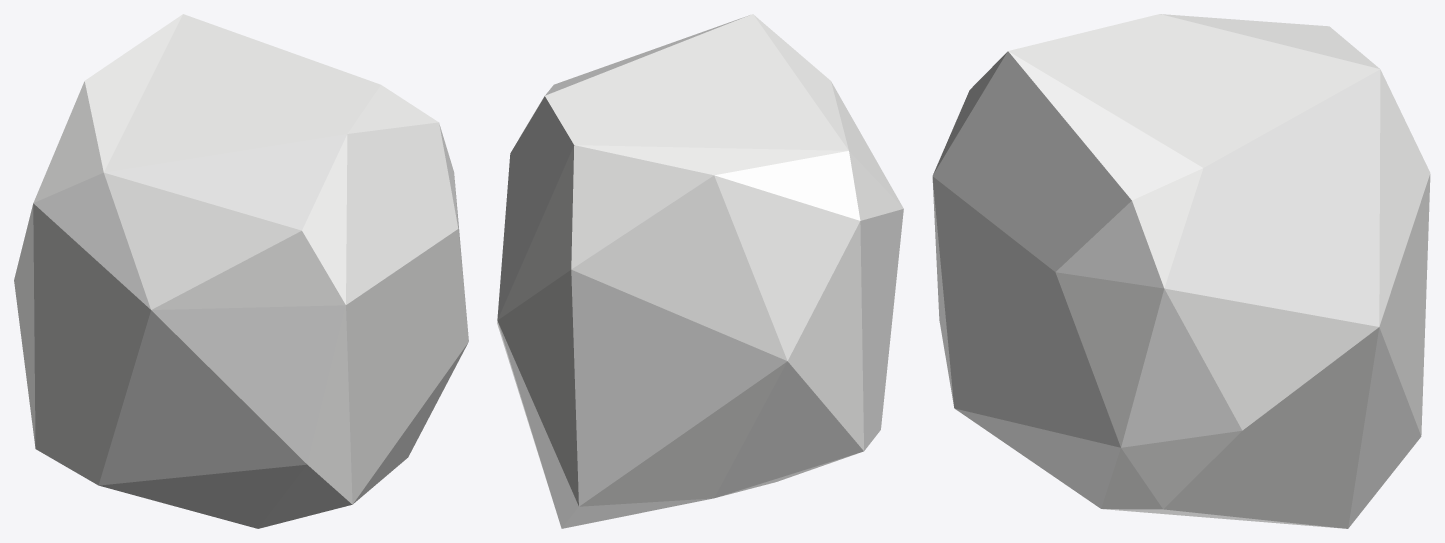
File: Cloud_v20.fbx
3 renders of one model, left to right at view 1: azimuth 30°, elevation 25°; view 2: azimuth 150°, elevation 25°; view 3: azimuth 270°, elevation 25°, orthographic. The views are drawn at different scales.
Visible parts, largest first — view 1: Cloud_v20; view 2: Cloud_v20; view 3: Cloud_v20.
Part boxes in pixels (x1=…): Cloud_v20: x1=14, y1=14, x2=468, y2=528; Cloud_v20: x1=497, y1=14, x2=903, y2=528; Cloud_v20: x1=932, y1=14, x2=1430, y2=528.
Bounding box in the file's own units: 26.85 × 28.06 × 27.7.
Materials: 1 (1 with a texture image).
